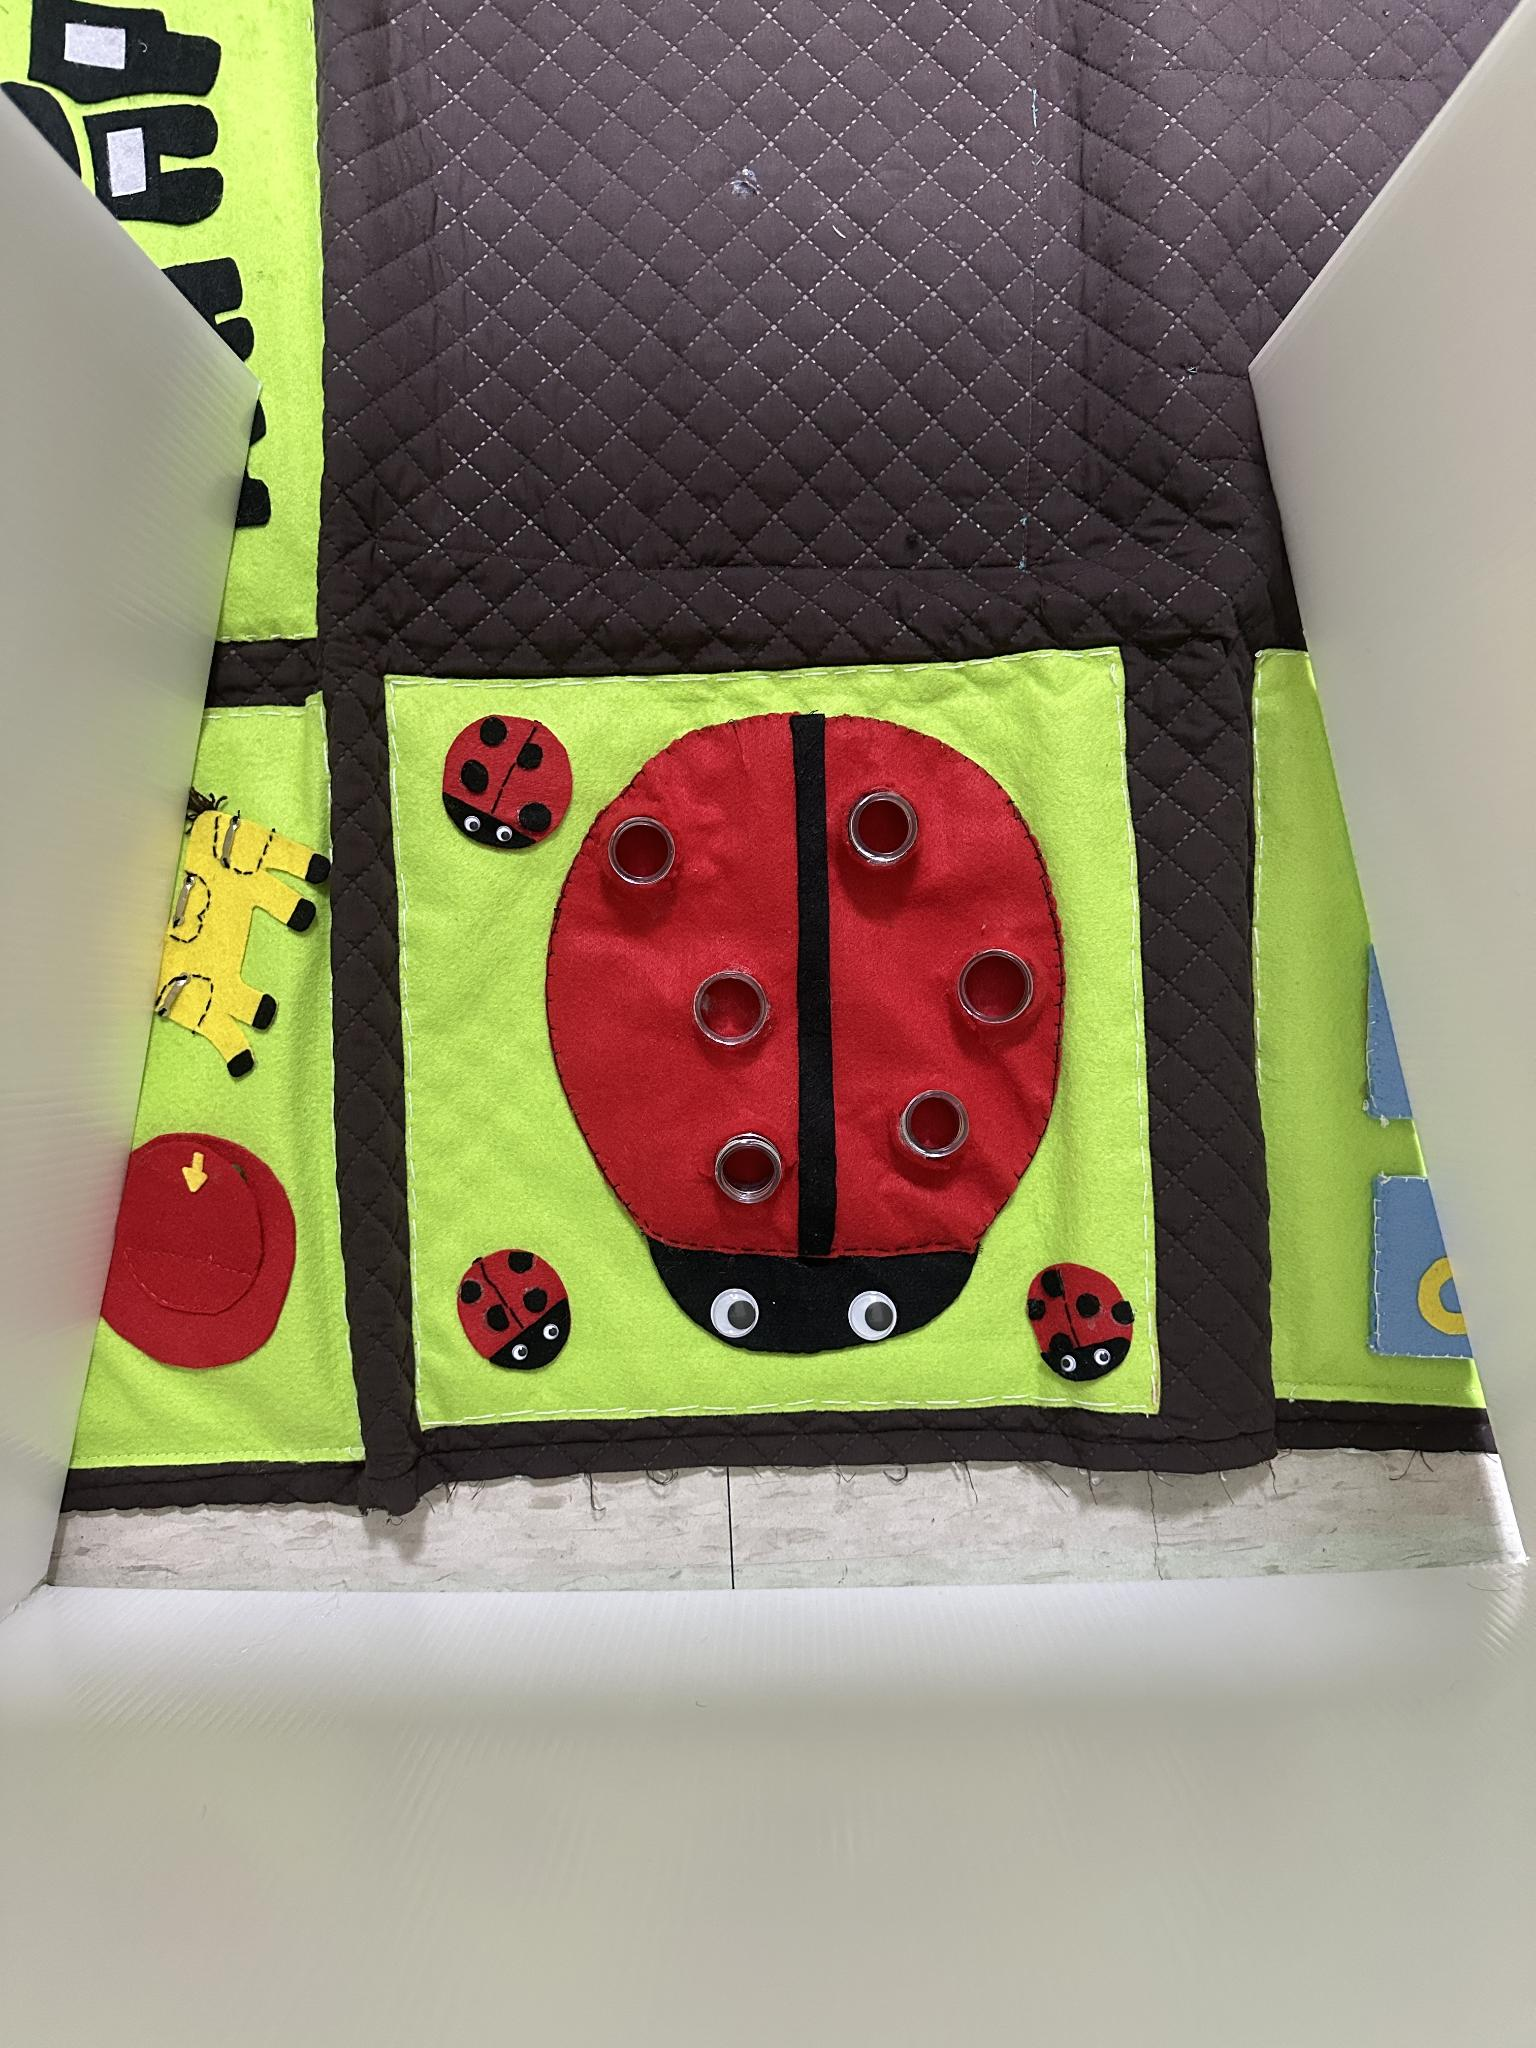hole: (600, 813, 678, 897), (849, 789, 923, 871), (894, 1087, 976, 1161), (692, 969, 768, 1048), (960, 948, 1034, 1026), (715, 1137, 783, 1208)
ladybug_case: (553, 698, 1068, 1358)
